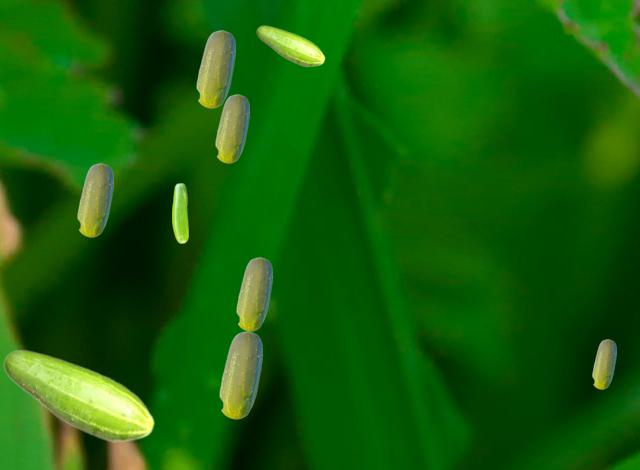cucumber: (3, 349, 154, 442), (219, 331, 261, 418), (196, 30, 234, 107), (256, 25, 324, 66), (236, 257, 271, 330), (77, 163, 112, 236), (215, 94, 248, 162), (592, 339, 615, 388), (172, 183, 187, 242)
